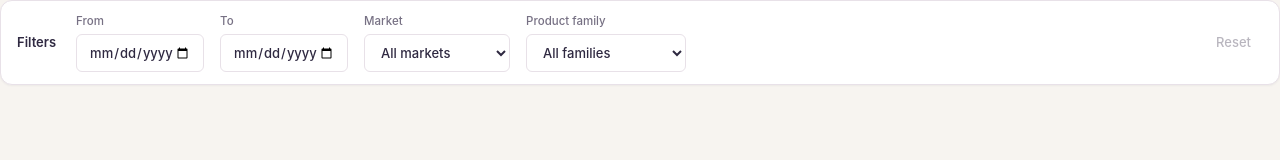
Scenario: FilterBar › constrains each date control using metadata and the selected peer date
The image size is (1280, 160).
In the date field named "Start date": point(140, 53) [76,34,204,72], type "2011-01-01"
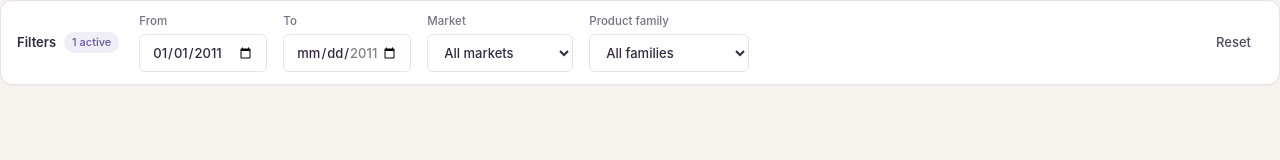
In the date field named "End date": point(347, 53) [283,34,411,72], type "2011-06-30"
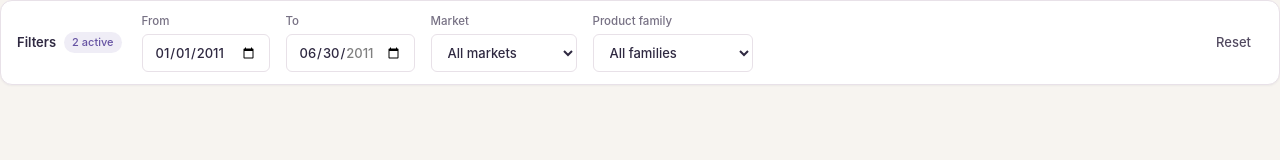
Expected: the date field named "Start date" has attribute max="2011-06-30", [142,34,270,72]
Expected: the date field named "End date" has attribute min="2011-01-01", [286,34,414,72]
